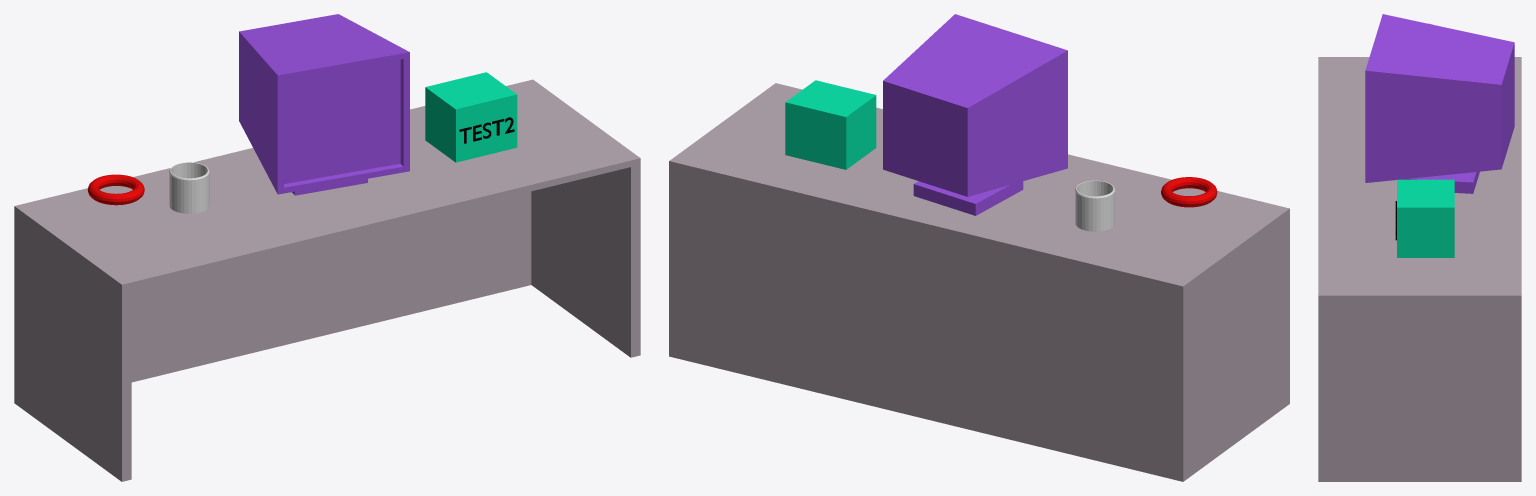
File: table.gltf
3 renders of one model, left to right at view 1: azimuth 30°, elevation 25°; view 2: azimuth 150°, elevation 25°; view 3: azimuth 270°, elevation 25°, orthographic. The views are drawn at different scales.
Parts seen in each view (by area): view 1: table, computer, Cube, Cylinder, torus; view 2: table, computer, Cube, Cylinder, torus; view 3: table, computer, Cube.
Boxes of the visible parts, <box> form: table: <box>14,79,640,481</box>; computer: <box>239,14,409,195</box>; Cube: <box>425,72,517,162</box>; Cylinder: <box>169,162,209,213</box>; torus: <box>87,174,144,205</box>; table: <box>669,83,1289,481</box>; computer: <box>883,14,1067,215</box>; Cube: <box>785,80,876,169</box>; Cylinder: <box>1075,180,1114,231</box>; torus: <box>1161,177,1217,207</box>; table: <box>1318,57,1521,481</box>; computer: <box>1365,14,1514,193</box>; Cube: <box>1397,179,1454,257</box>.
Bounding box in the file's own units: 5.57 × 3.44 × 2.
